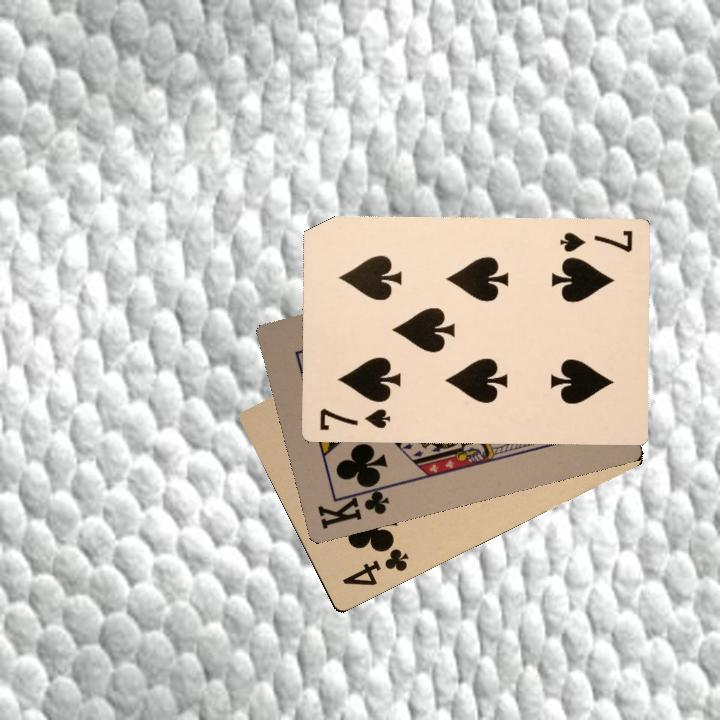4c: (338, 539, 412, 589)
7s: (315, 404, 393, 433), (556, 227, 635, 255)
Kc: (313, 480, 392, 532)
